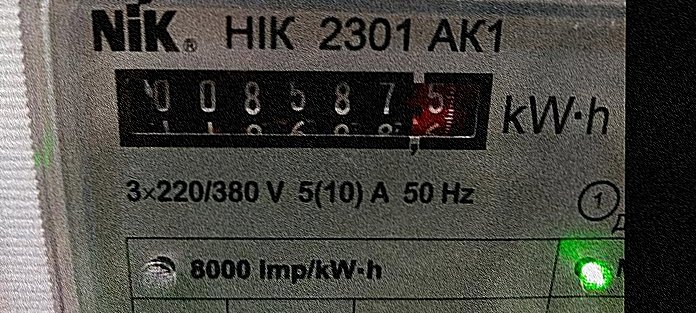0: (194, 75, 218, 115)
1: (148, 74, 172, 116)
5: (423, 77, 447, 117), (285, 76, 308, 114)
7: (374, 78, 397, 119)
8: (238, 77, 263, 118), (330, 77, 351, 118)
screen: (93, 49, 512, 170)
